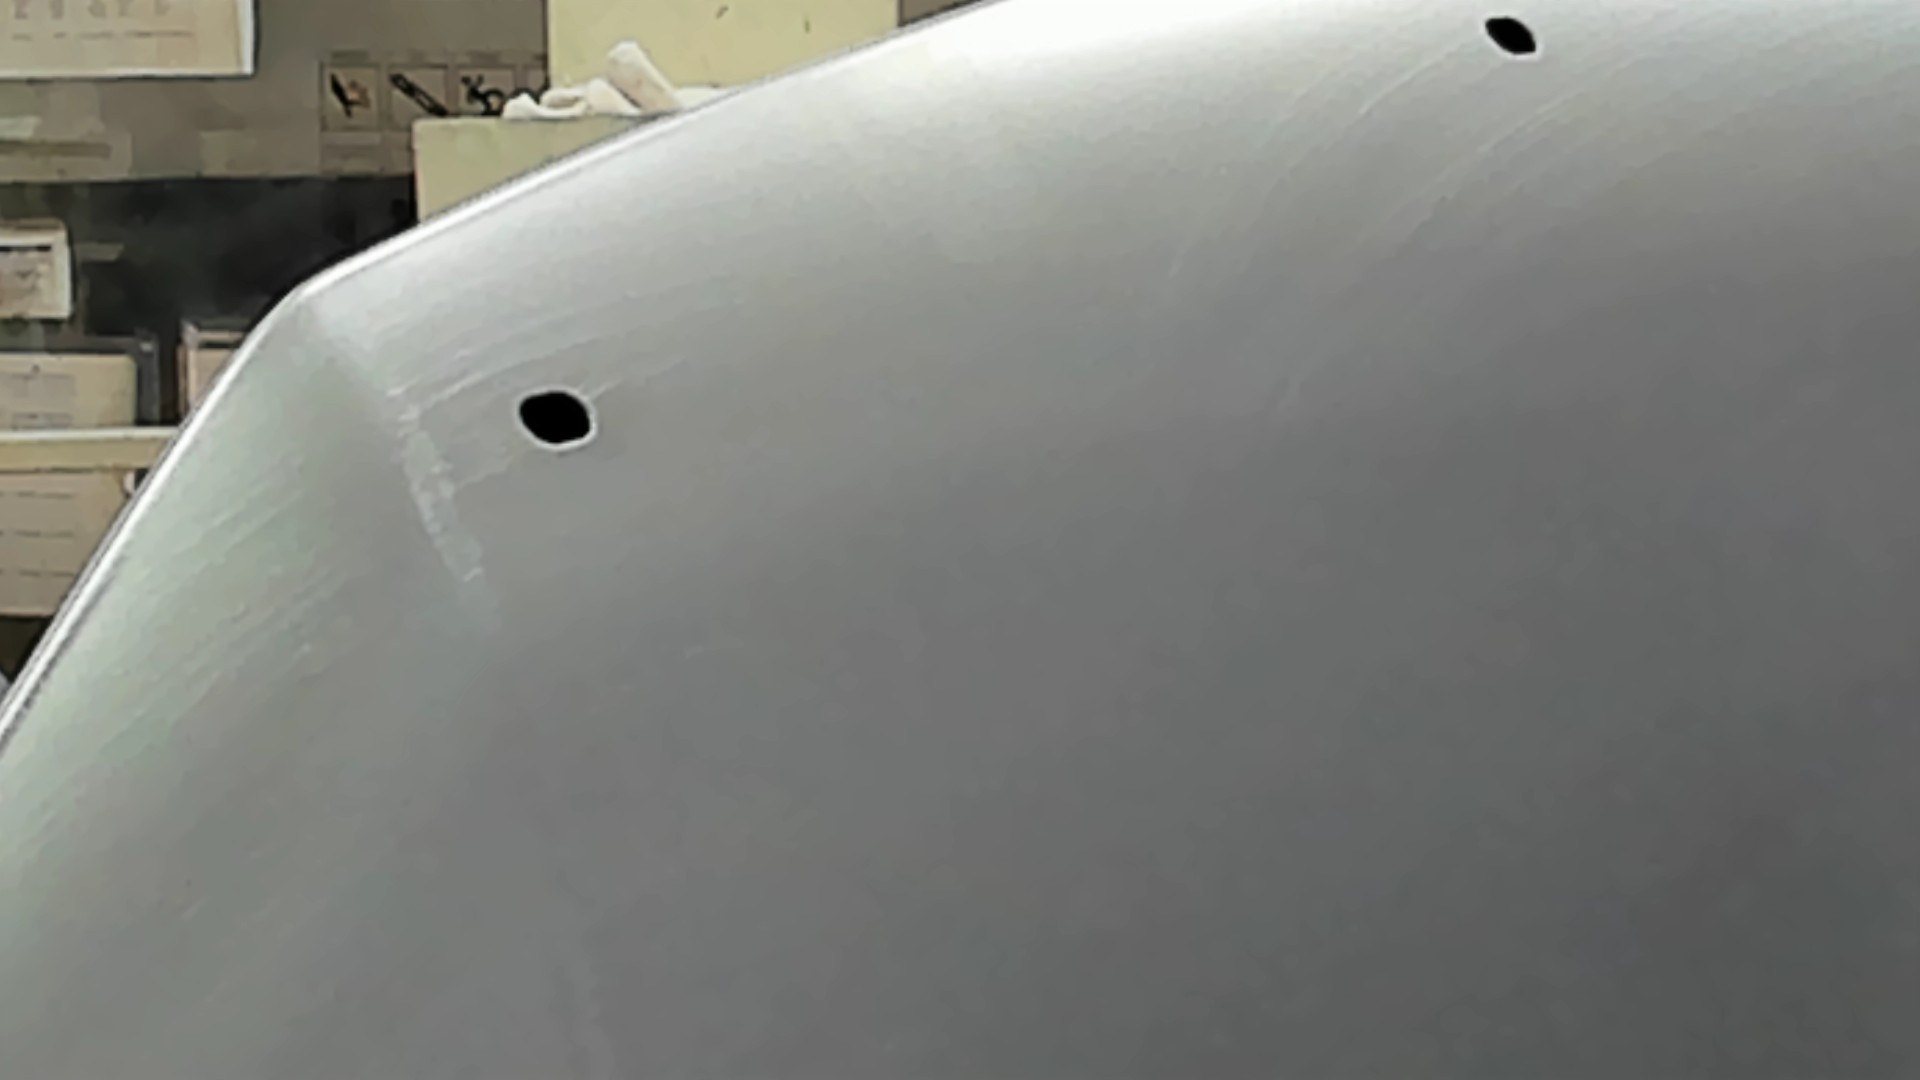amorfo: (512, 382, 604, 451), (1478, 8, 1545, 59)
